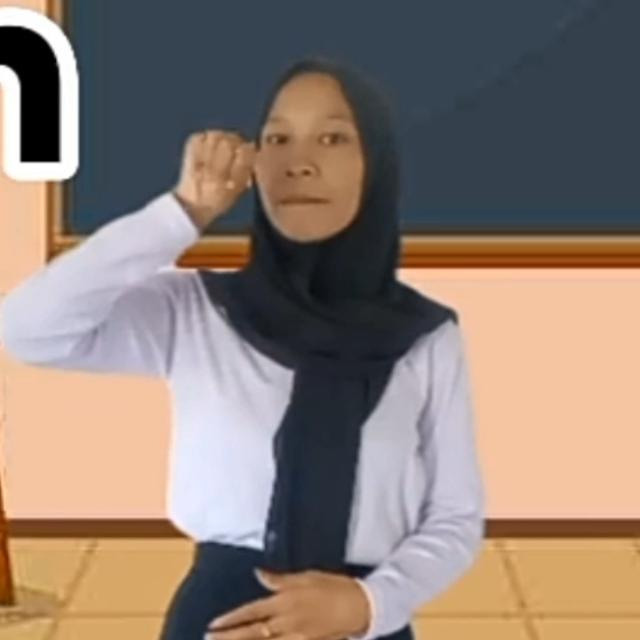M: (178, 124, 256, 210)
